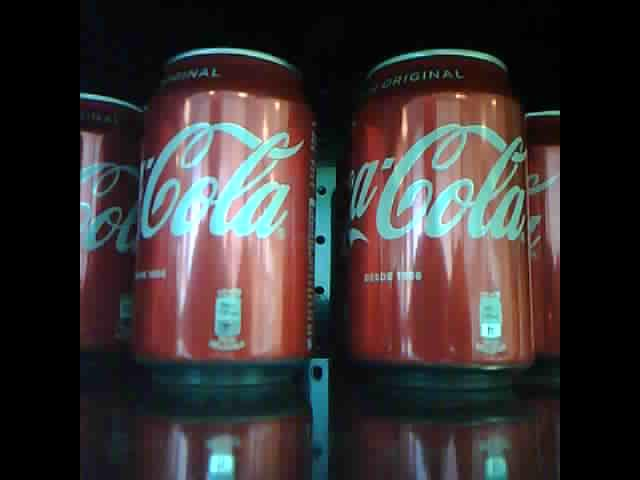coca cola: (345, 39, 536, 387), (137, 28, 317, 393), (79, 84, 143, 389), (520, 107, 559, 369)
